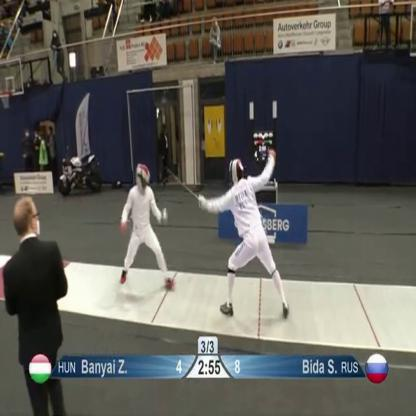crowd: (155, 120, 173, 186), (14, 122, 33, 171), (45, 126, 56, 171), (38, 131, 49, 169), (33, 126, 42, 168)
fencer: (190, 148, 300, 324), (117, 156, 179, 294)
referee: (0, 184, 79, 415)
